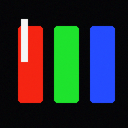4 line_v: (21, 19, 27, 61)
